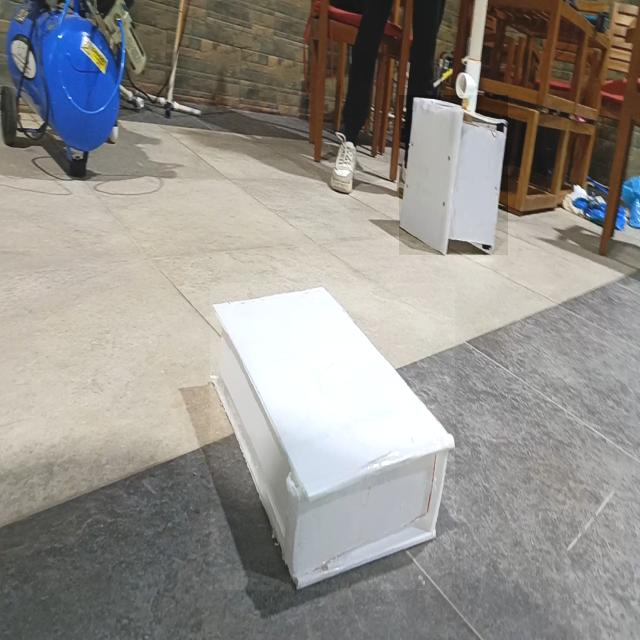Cube: (399, 95, 508, 255)
Cuboid: (210, 283, 455, 590)
